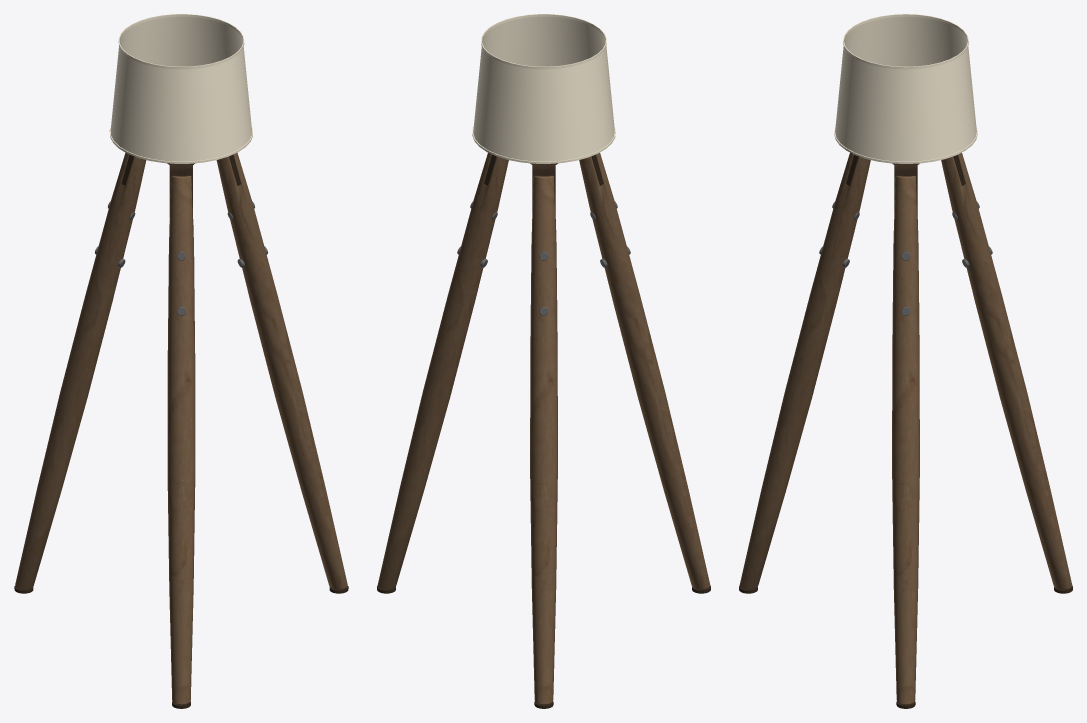
Rendered from lighting03.glb.
3 renders of one model, left to right at view 1: azimuth 30°, elevation 25°; view 2: azimuth 150°, elevation 25°; view 3: azimuth 270°, elevation 25°, orthographic.
Visible parts, largest first — view 1: lighting03; view 2: lighting03; view 3: lighting03.
Boxes of the visible parts, <box> form: lighting03: <box>14,14,348,708</box>; lighting03: <box>377,14,710,708</box>; lighting03: <box>739,14,1072,708</box>.
Size of the model in its own units: 0.7324 by 1.63 by 0.8381.
6 materials, 2 textured.
